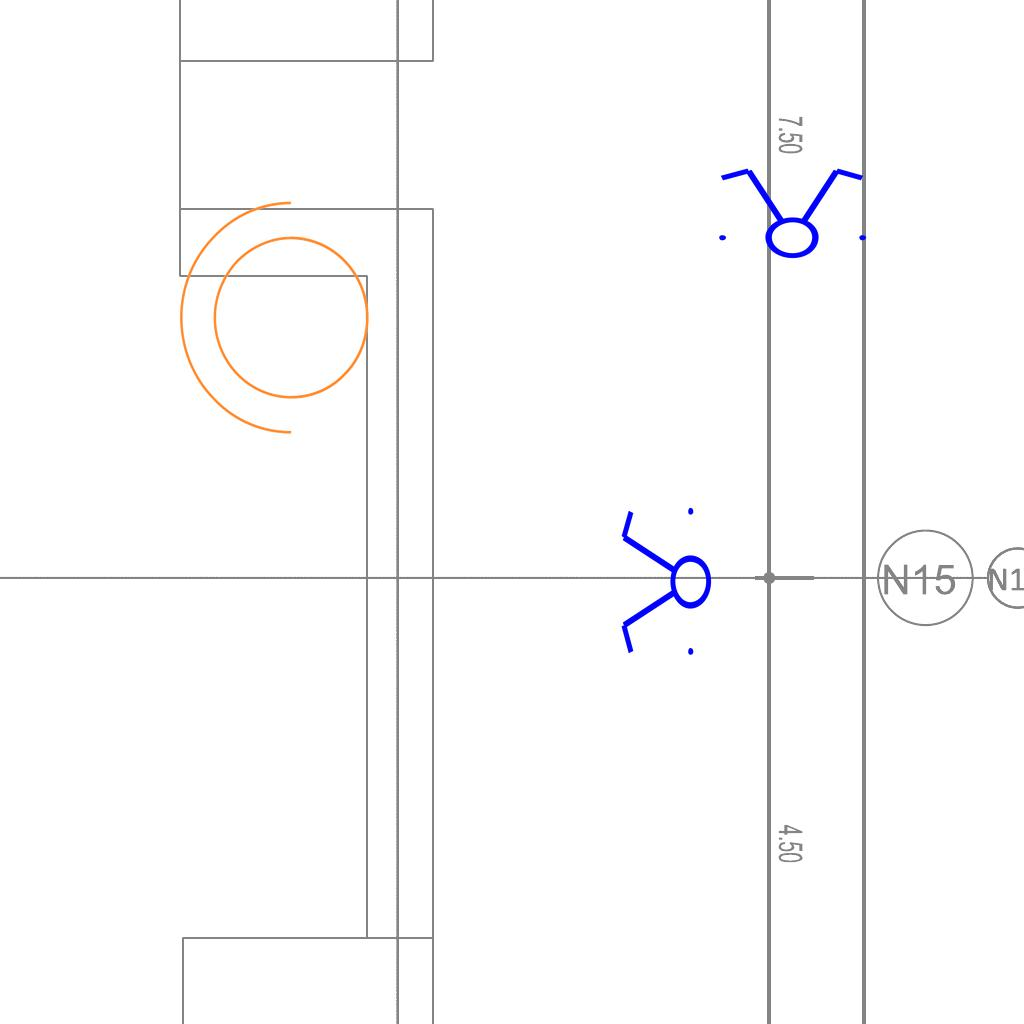Scheinwerfer_fuer_Alarmbeleuchtung: (169, 192, 394, 456)
Serienschalter: (617, 499, 713, 667), (707, 164, 875, 260)
